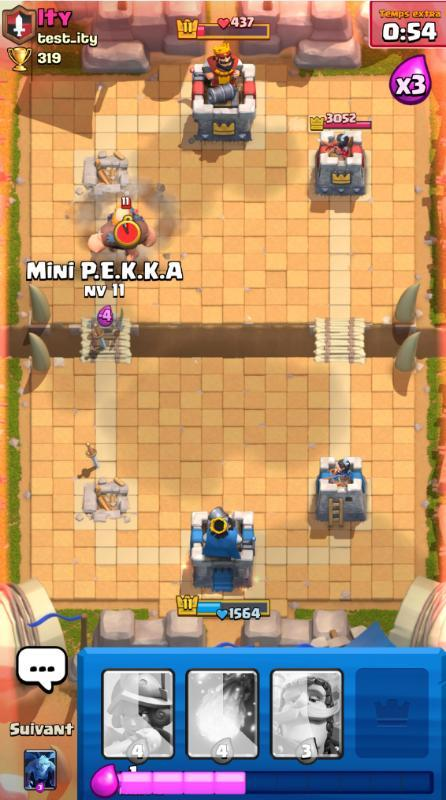geant: (88, 207, 159, 263)
mini_PEKKA: (87, 307, 124, 336), (106, 197, 145, 223)
